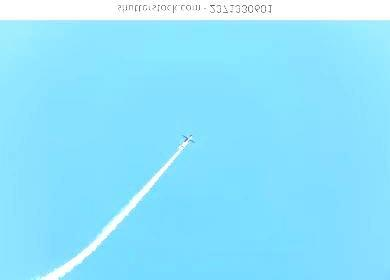Plane: (105, 128, 210, 246)
